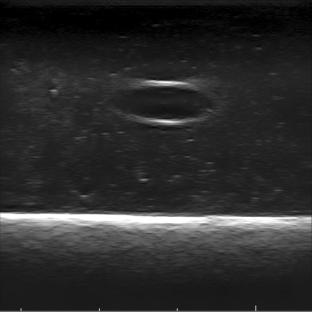vessel: (114, 80, 215, 126)
